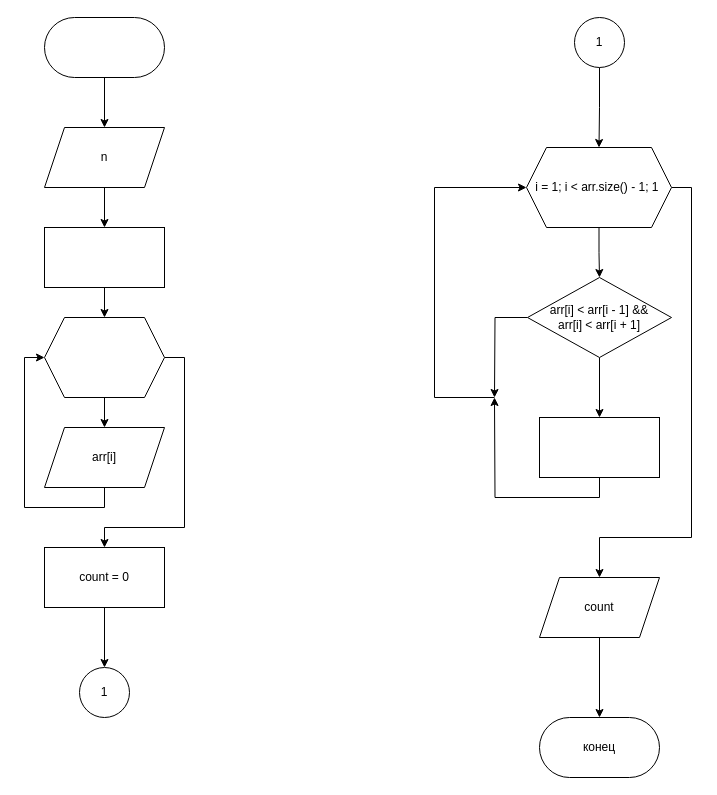
Some shapes in this 717 by 795 pixel diagram are drawn without their labels. The shapes that lost their labels are listed below. From the top down, each one's centre as x and y in pixels, then its label:
At point 104,47: "начало".
At point 104,257: "vector<int> arr(n)".
At point 104,357: "i = 0; i != 0; 1".
At point 599,447: "count++".
